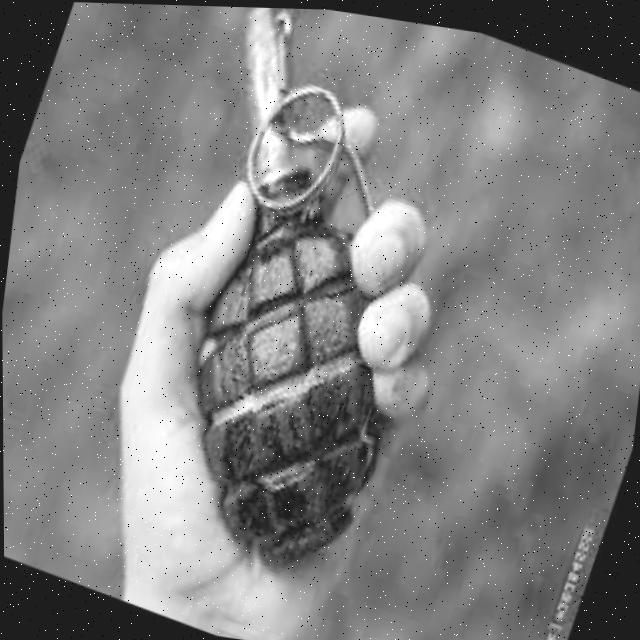grenade: (57, 1, 510, 606)
